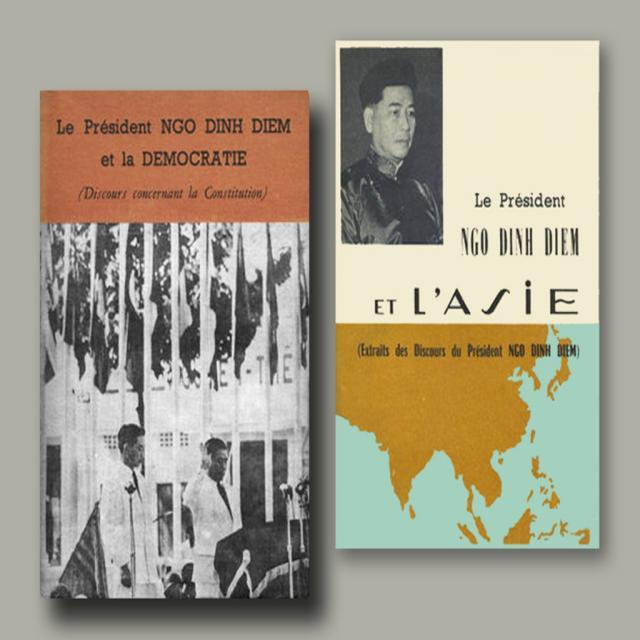book: (28, 86, 318, 612), (334, 39, 601, 552)
